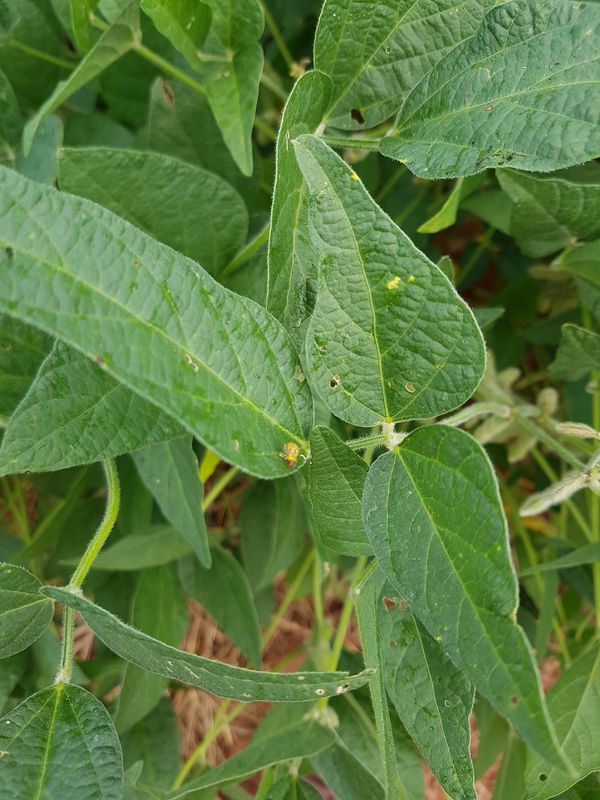Diabrotica_speciosa: (272, 436, 312, 475)
